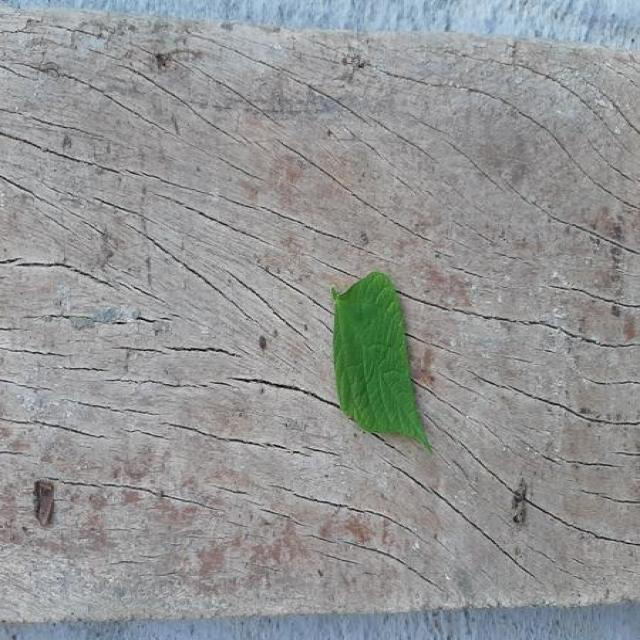beans: (333, 272, 432, 448)
